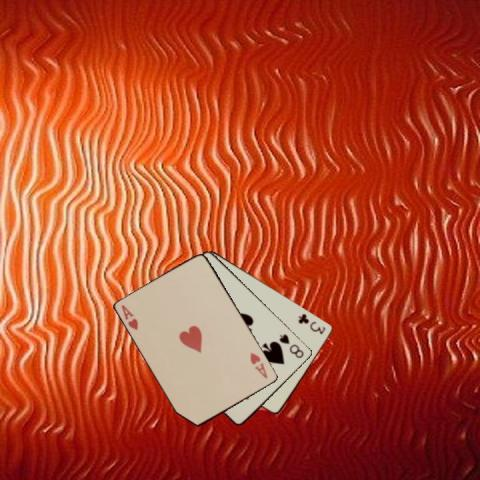3c: (295, 311, 327, 336)
8s: (277, 332, 305, 360)
Ah: (248, 349, 270, 380), (119, 302, 140, 331)
